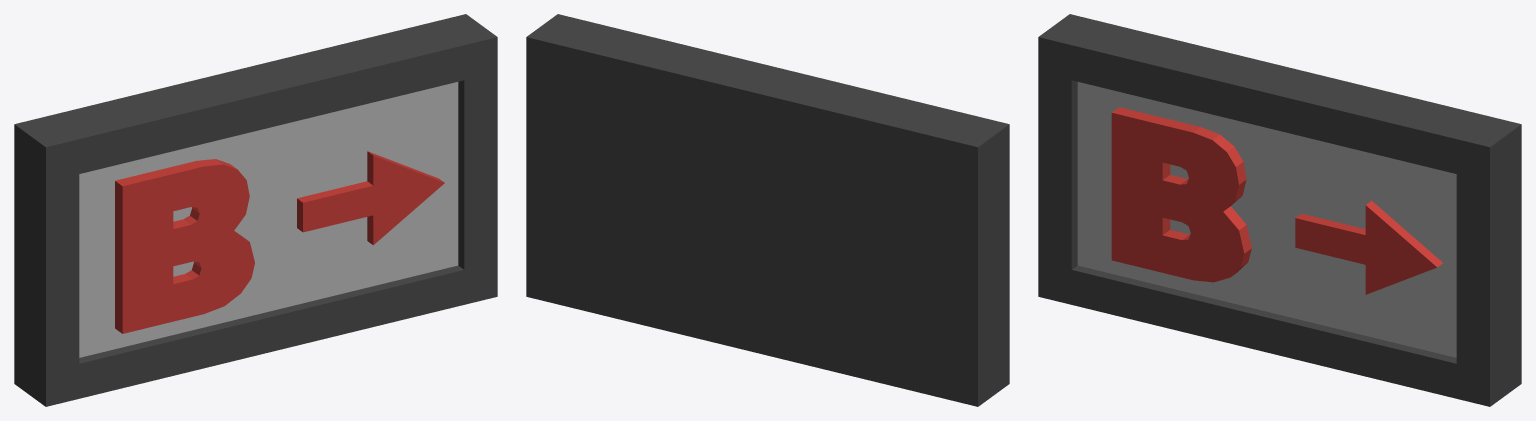
The model's file is SignB_01.fbx.
3 renders of one model, left to right at view 1: azimuth 30°, elevation 25°; view 2: azimuth 150°, elevation 25°; view 3: azimuth 330°, elevation 25°, orthographic.
Visible parts, largest first — view 1: SignB_01; view 2: SignB_01; view 3: SignB_01.
Part boxes in pixels (x1=…): SignB_01: x1=14, y1=14, x2=497, y2=406; SignB_01: x1=526, y1=14, x2=1009, y2=406; SignB_01: x1=1038, y1=14, x2=1521, y2=406.
Size of the model in its own units: 58.56 by 32.16 by 7.45.
